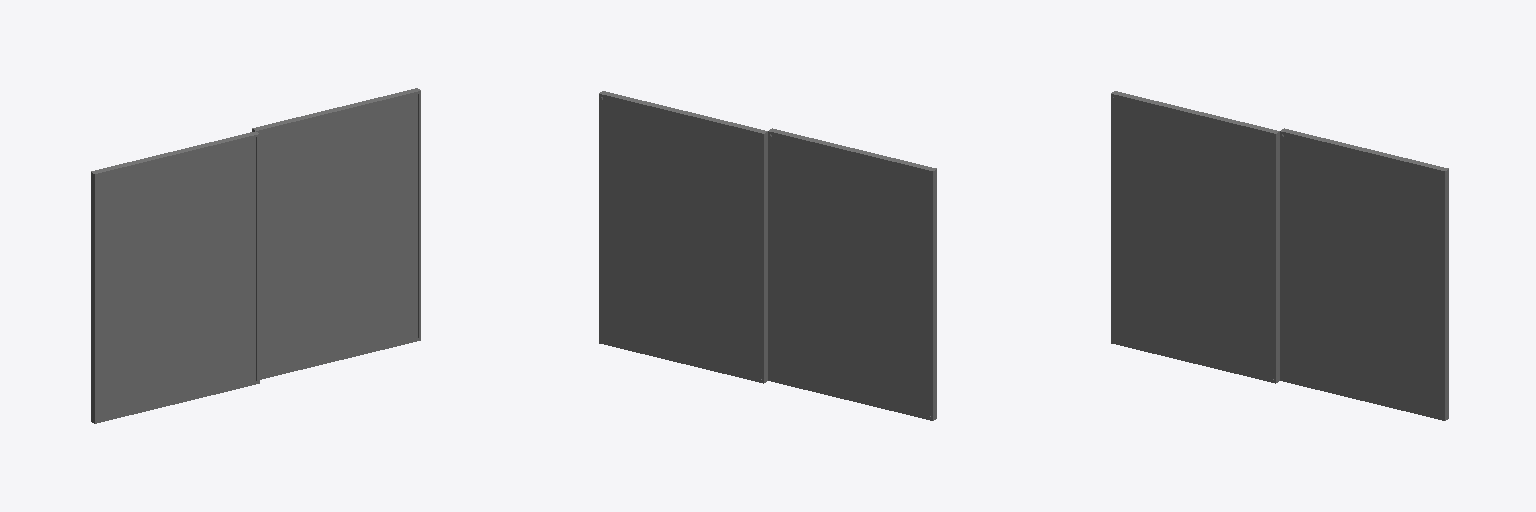
File: Window.obj
3 views of the same model, side by side, from view 1: azimuth 30°, elevation 25°; view 2: azimuth 150°, elevation 25°; view 3: azimuth 330°, elevation 25° (orthographic).
Parts seen in each view (by area): view 1: WINDOW, Object001; view 2: WINDOW, Object001; view 3: WINDOW, Object001.
Boxes of the visible parts, <box> form: WINDOW: <box>91,88,420,423</box>; Object001: <box>97,94,417,378</box>; WINDOW: <box>599,91,936,420</box>; Object001: <box>603,97,930,415</box>; WINDOW: <box>1111,91,1448,420</box>; Object001: <box>1114,97,1442,416</box>.
Size of the model in its own units: 3.38 by 2.44 by 0.1365.